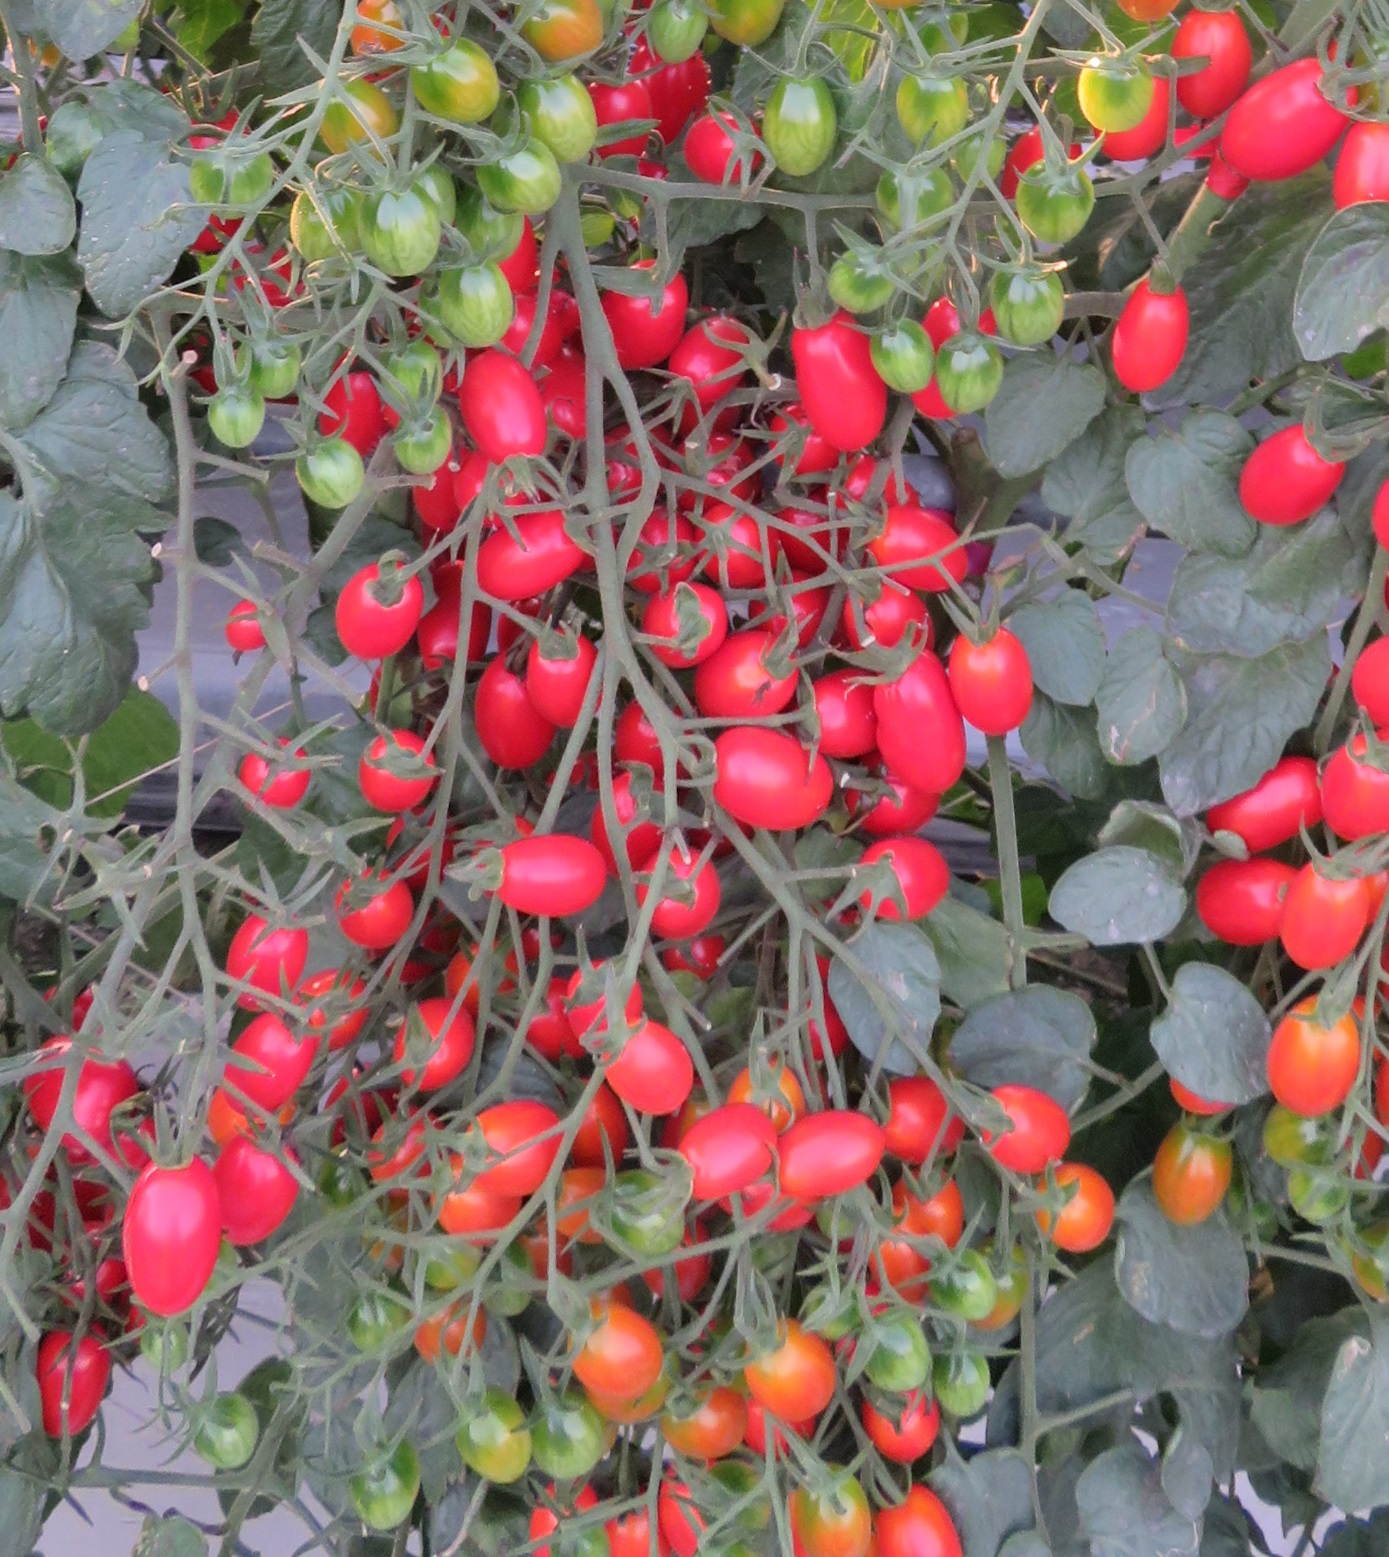green: (752, 66, 859, 170), (417, 256, 512, 347), (350, 194, 441, 283), (400, 50, 504, 122), (1012, 162, 1094, 251), (1078, 48, 1162, 131), (930, 333, 1006, 425), (611, 1173, 689, 1261), (446, 1404, 528, 1485), (526, 1412, 607, 1491), (463, 138, 562, 203), (1002, 266, 1070, 353), (188, 1393, 261, 1474), (534, 75, 597, 168), (342, 1460, 420, 1533), (287, 182, 354, 266), (892, 67, 971, 137), (880, 161, 955, 233), (300, 439, 373, 510), (648, 1, 712, 80), (867, 308, 929, 388), (1286, 1153, 1354, 1222), (933, 1350, 1000, 1418), (349, 1291, 412, 1359), (826, 264, 900, 316), (198, 396, 267, 449), (247, 335, 299, 401), (400, 420, 452, 483), (413, 1241, 483, 1287), (867, 1337, 939, 1383), (145, 1320, 192, 1371)
orange: (1268, 995, 1362, 1116), (463, 1101, 560, 1196), (745, 1322, 837, 1419), (1148, 1131, 1231, 1227), (783, 1470, 870, 1557), (570, 1304, 652, 1395), (1032, 1175, 1117, 1251), (660, 1388, 749, 1459), (412, 1293, 491, 1367)
red: (1228, 60, 1354, 185), (866, 652, 971, 799), (786, 316, 892, 453), (703, 728, 837, 831), (17, 1038, 141, 1149), (126, 1172, 215, 1317), (471, 510, 601, 606), (1205, 756, 1326, 852), (690, 622, 808, 716), (455, 355, 550, 469), (778, 1110, 884, 1208), (859, 506, 973, 595), (845, 835, 955, 927), (948, 633, 1043, 736), (1107, 279, 1192, 392), (227, 1011, 316, 1112), (328, 566, 425, 658), (875, 1070, 968, 1167), (227, 911, 310, 1017), (605, 256, 686, 363), (1286, 877, 1380, 970), (1189, 864, 1294, 945), (1176, 8, 1255, 115), (1321, 734, 1389, 856), (1237, 437, 1333, 524), (979, 1085, 1073, 1172), (493, 831, 599, 907), (38, 1328, 107, 1442), (396, 998, 479, 1093), (633, 853, 721, 940), (678, 1114, 770, 1199), (520, 632, 593, 738), (859, 1487, 967, 1557), (697, 503, 786, 587), (579, 70, 652, 172), (670, 316, 752, 404), (359, 724, 436, 815), (228, 1139, 291, 1249), (645, 583, 728, 667), (333, 869, 416, 951), (609, 1030, 688, 1114), (845, 585, 939, 656), (619, 508, 694, 587), (463, 658, 522, 759), (563, 962, 645, 1030), (681, 111, 758, 182), (436, 940, 515, 1008), (235, 738, 310, 809), (1335, 114, 1389, 196), (221, 598, 268, 654)
